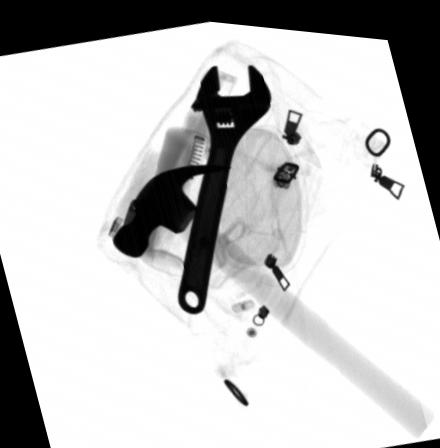Hammer: (112, 158, 435, 429)
Wrench: (177, 58, 272, 311)
